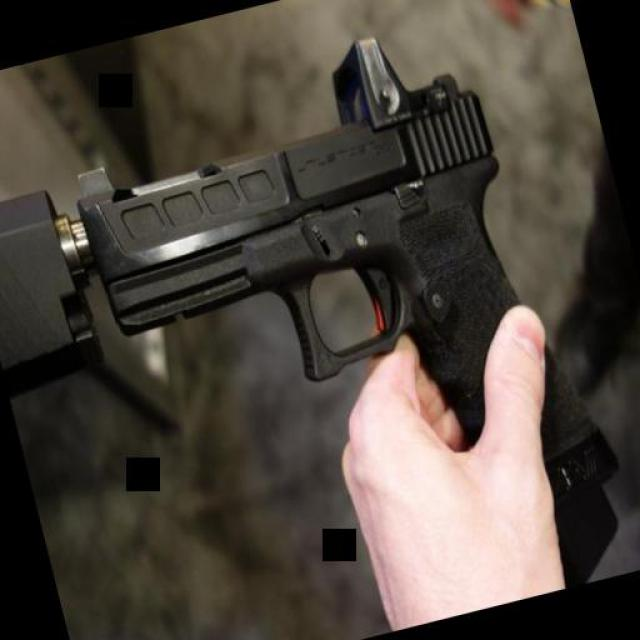gun: (41, 5, 640, 640)
